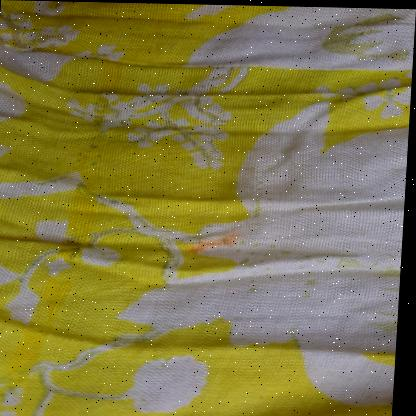spot: (184, 228, 251, 258)
